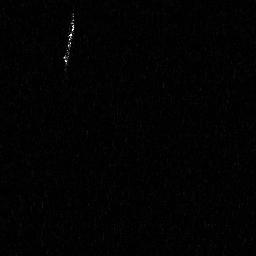ship: (62, 20, 75, 64)
